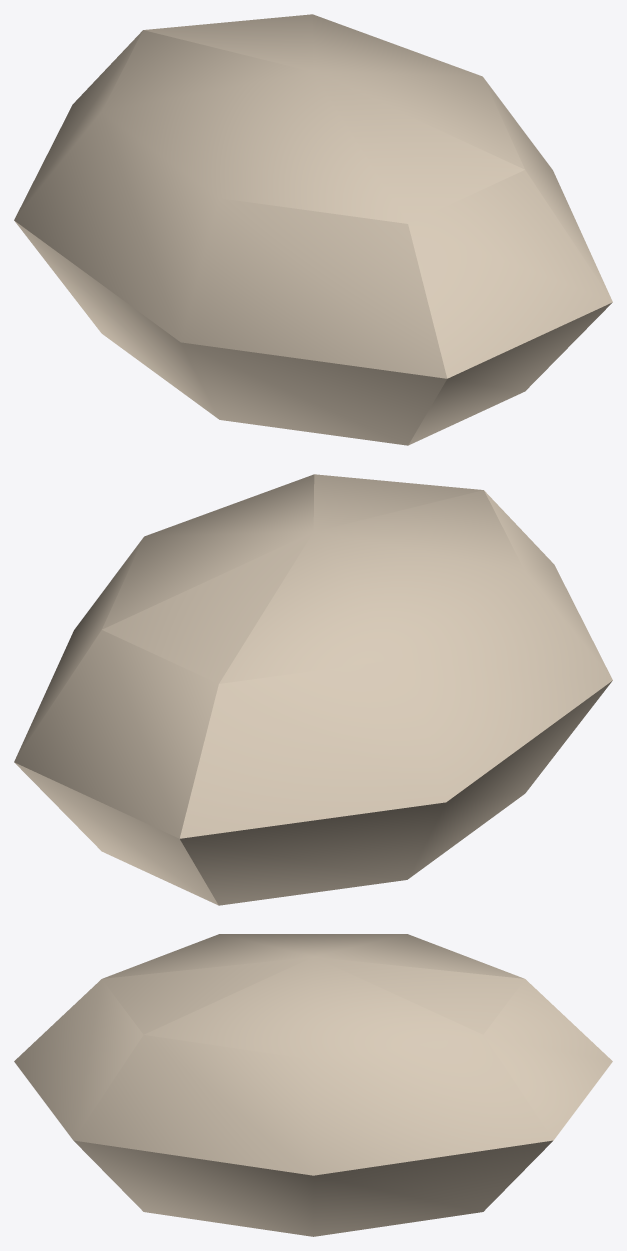
Rendered from hedgehog_foot.gltf.
3 renders of one model, top to bottom at view 1: azimuth 30°, elevation 25°; view 2: azimuth 150°, elevation 25°; view 3: azimuth 270°, elevation 25°, orthographic. The views are drawn at different scales.
Visible parts, largest first — view 1: hedgehog_foot; view 2: hedgehog_foot; view 3: hedgehog_foot.
Part boxes in pixels (x1,y1,x2,y2): hedgehog_foot: (14,14,612,445); hedgehog_foot: (14,474,612,905); hedgehog_foot: (14,934,612,1236).
Size of the model in its own units: 0.1369 by 0.09 by 0.195.
